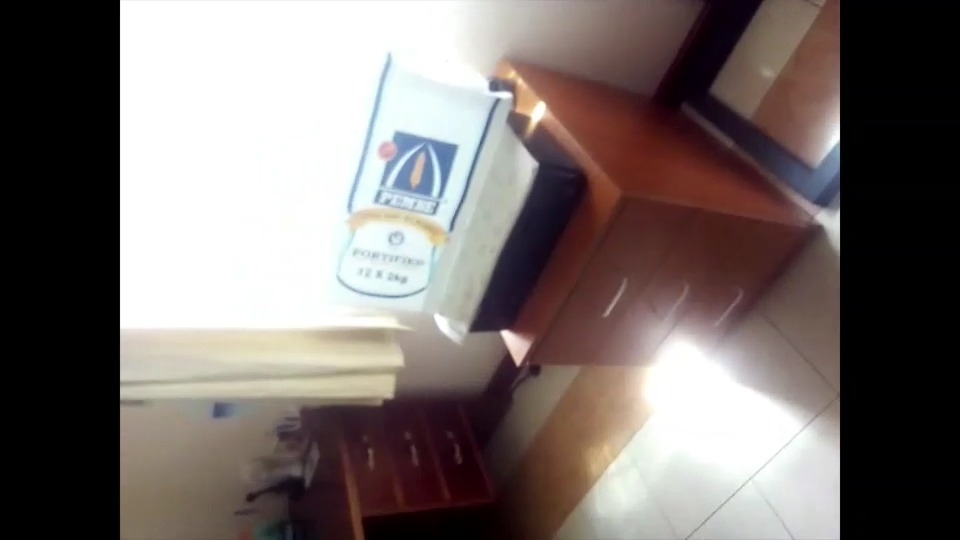wheat_flour_blue_label: (310, 44, 508, 313)
